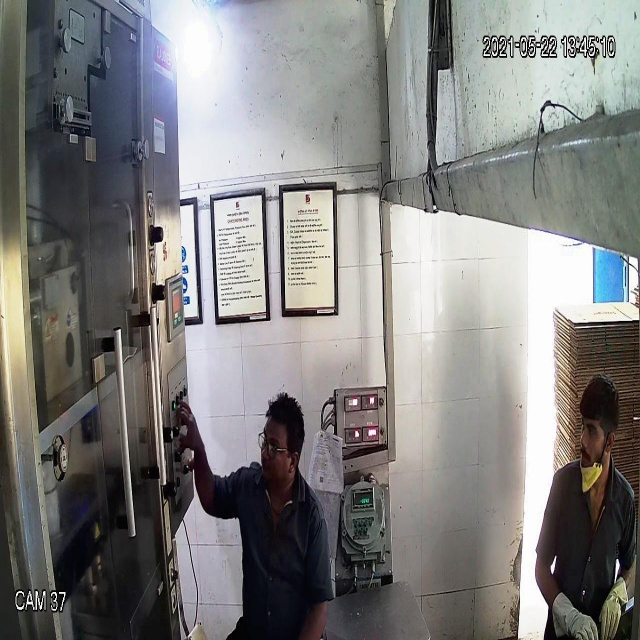Gafas: (255, 426, 299, 460)
Sin_gafas: (578, 416, 614, 445)
